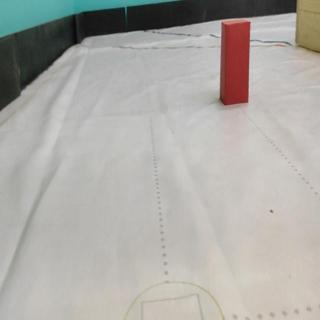redbox: (219, 18, 252, 105)
